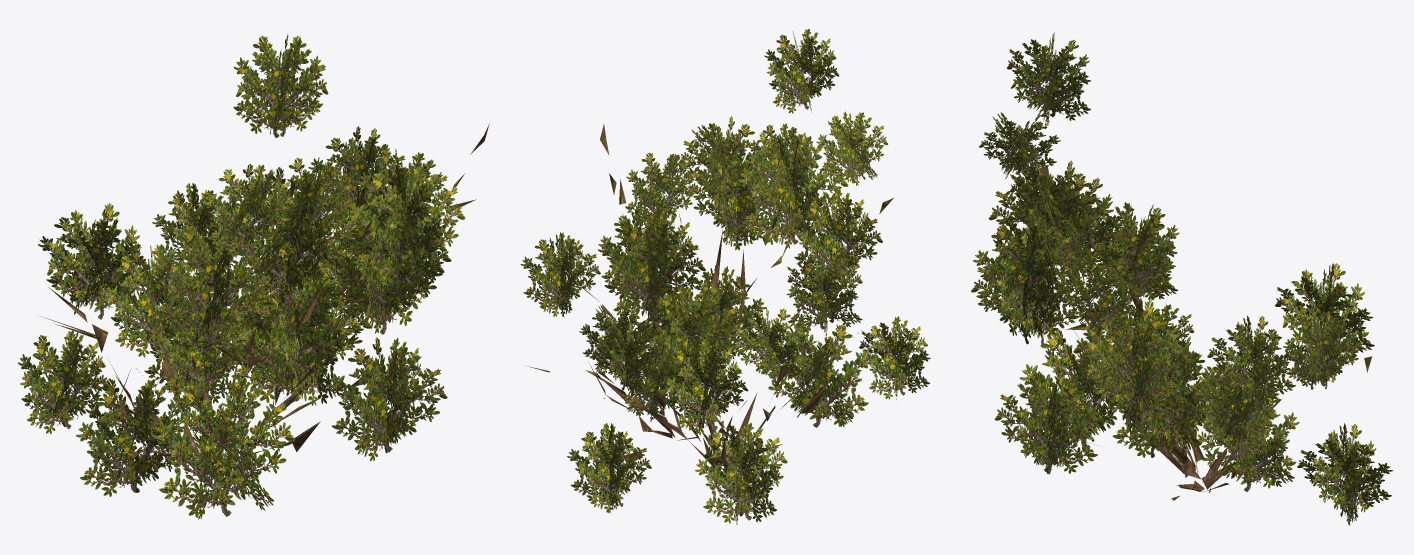
The model's file is bush1.glb.
3 views of the same model, side by side, from view 1: azimuth 30°, elevation 25°; view 2: azimuth 150°, elevation 25°; view 3: azimuth 270°, elevation 25° (orthographic). The views are drawn at different scales.
Parts seen in each view (by area): view 1: cards, LO.001; view 2: cards, LO.001; view 3: cards, LO.001.
Boxes of the visible parts, x1=… form: cards: x1=18, y1=34, x2=465, y2=519; LO.001: x1=40, y1=123, x2=489, y2=474; cards: x1=520, y1=28, x2=930, y2=524; LO.001: x1=526, y1=124, x2=893, y2=476; cards: x1=971, y1=32, x2=1392, y2=525; LO.001: x1=1023, y1=147, x2=1371, y2=500.
Size of the model in its own units: 0.9492 by 1.07 by 0.8844.
2 materials, 2 textured.
